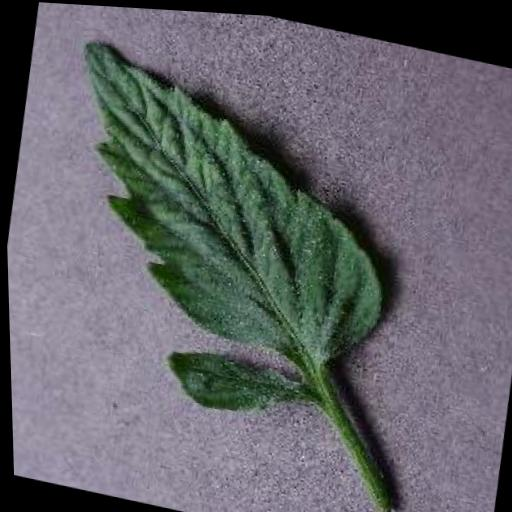Mosaic Virus: (39, 31, 420, 376)
